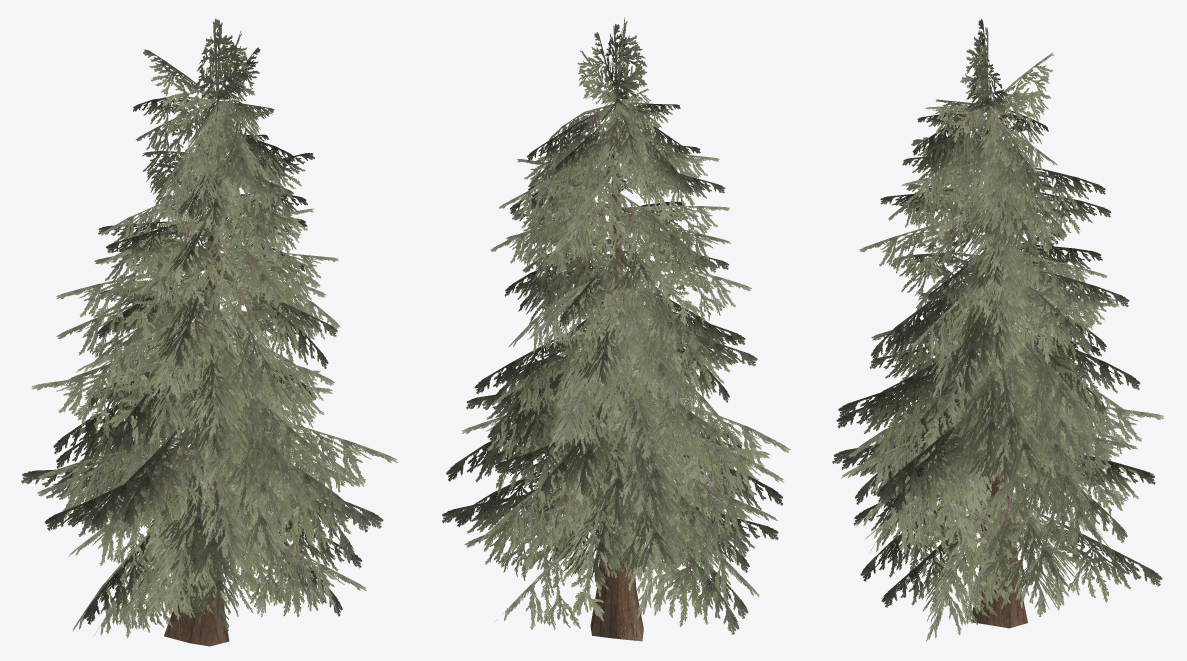
File: Sequoiadendron_Giganteum_Spring_Young.glb
The picture shows the model from 3 angles, left to right: view 1: azimuth 30°, elevation 25°; view 2: azimuth 150°, elevation 25°; view 3: azimuth 270°, elevation 25°; orthographic projection. The views are drawn at different scales.
Parts seen in each view (by area): view 1: Sequoiadendron_Giganteum_Spring_Young__LOD3; view 2: Sequoiadendron_Giganteum_Spring_Young__LOD3; view 3: Sequoiadendron_Giganteum_Spring_Young__LOD3.
Part boxes in pixels (x1=…): Sequoiadendron_Giganteum_Spring_Young__LOD3: x1=21, y1=18, x2=397, y2=646; Sequoiadendron_Giganteum_Spring_Young__LOD3: x1=442, y1=17, x2=790, y2=641; Sequoiadendron_Giganteum_Spring_Young__LOD3: x1=832, y1=19, x2=1163, y2=641.
Size of the model in its own units: 10.96 by 20.21 by 10.48.
2 materials, 2 textured.
